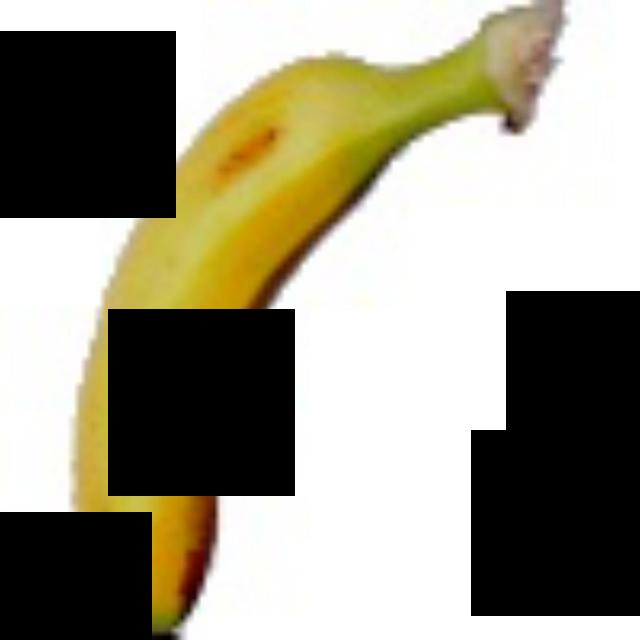banana: (19, 0, 608, 634)
